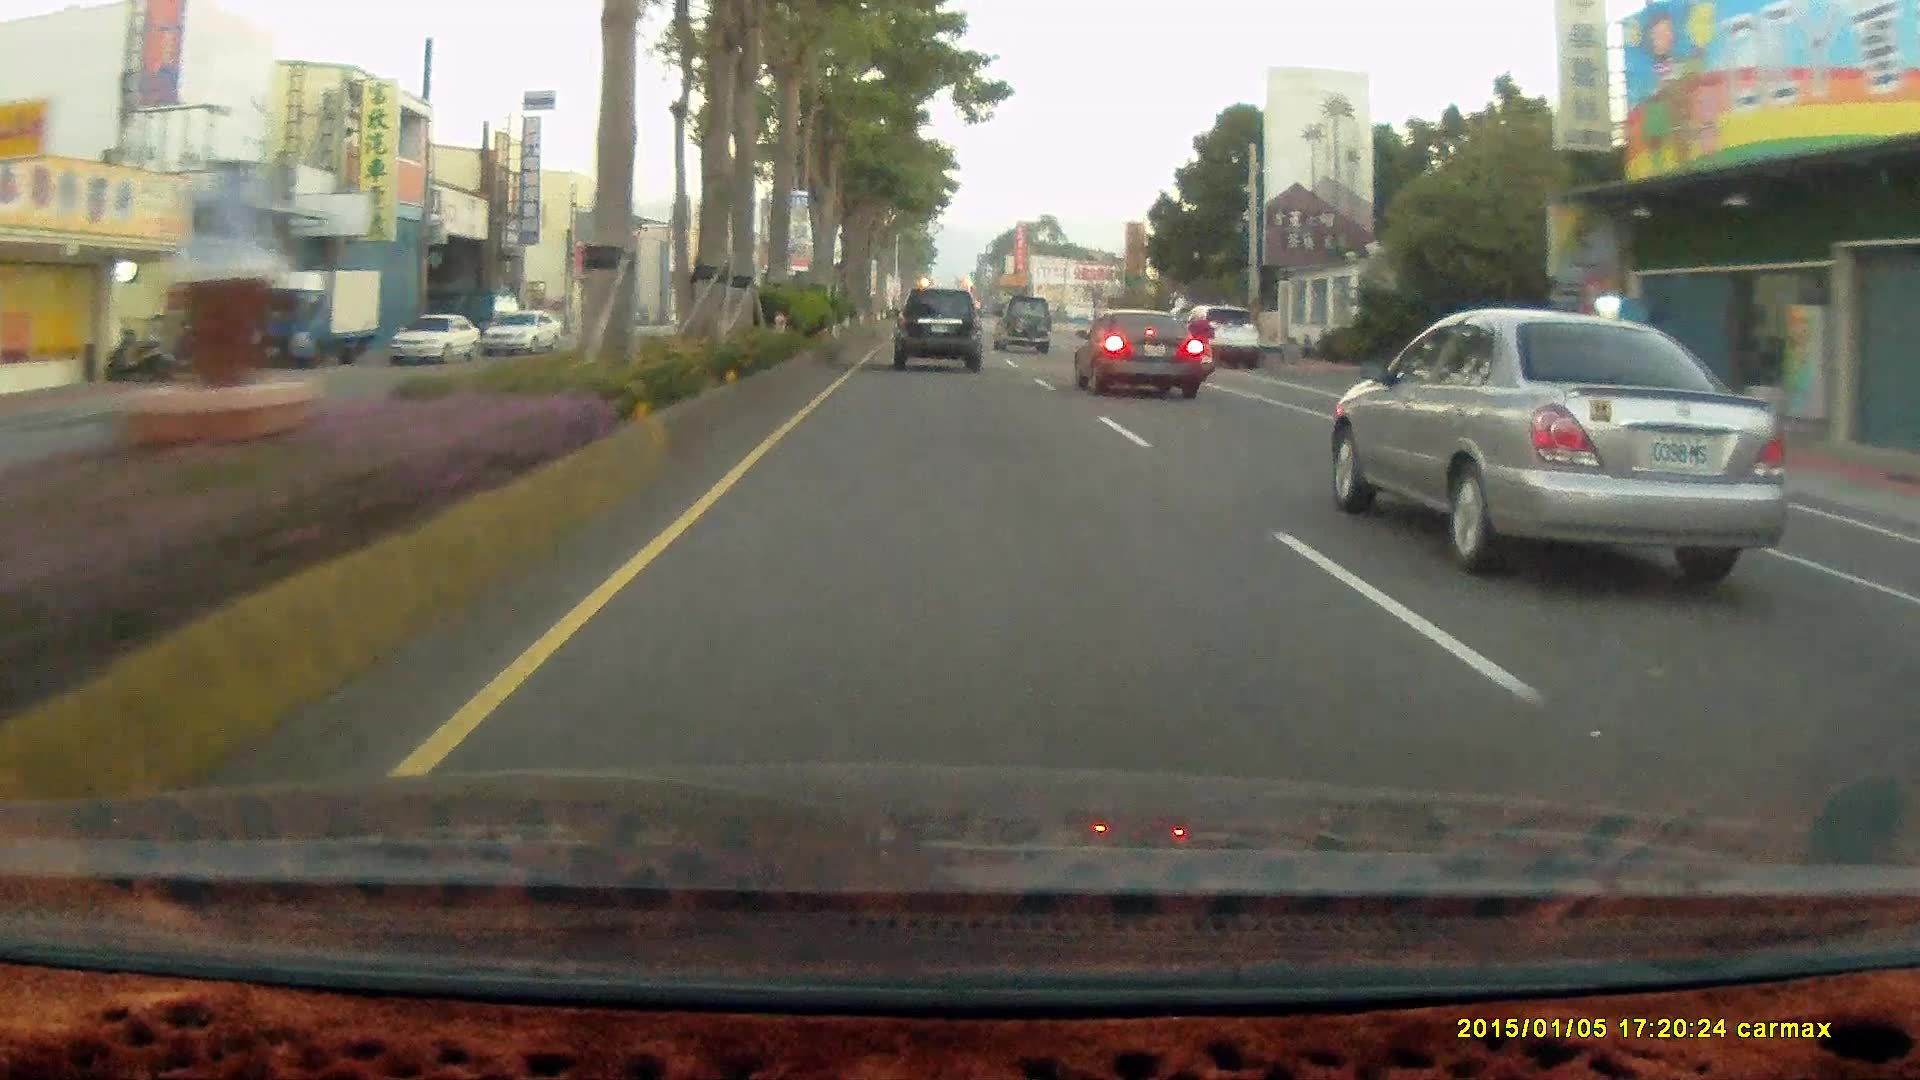rider: (1179, 300, 1220, 376)
vehicle: (1315, 298, 1782, 567), (241, 268, 386, 369), (242, 264, 381, 365), (1071, 303, 1207, 394), (1072, 307, 1205, 400), (889, 281, 989, 376), (891, 288, 980, 372), (392, 309, 485, 367), (390, 309, 481, 366), (1184, 303, 1262, 370), (1183, 303, 1260, 369), (992, 295, 1054, 357), (485, 307, 563, 354), (992, 295, 1051, 353)
